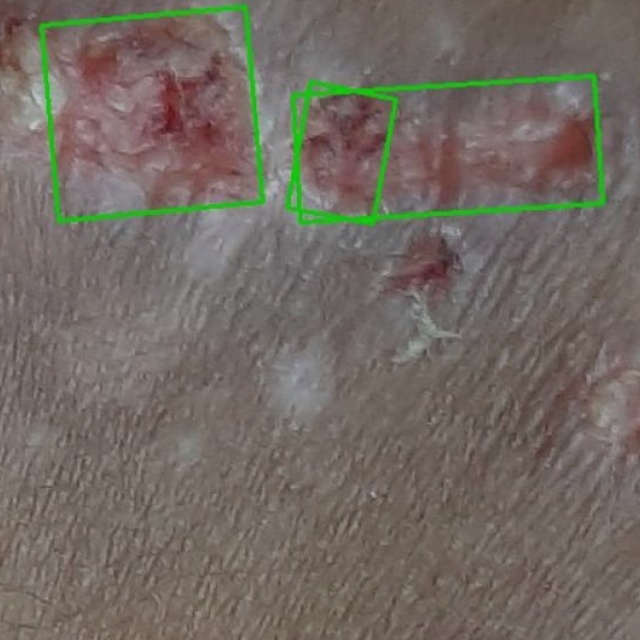Eczema: (40, 6, 262, 220), (292, 75, 602, 221), (286, 82, 395, 223)
